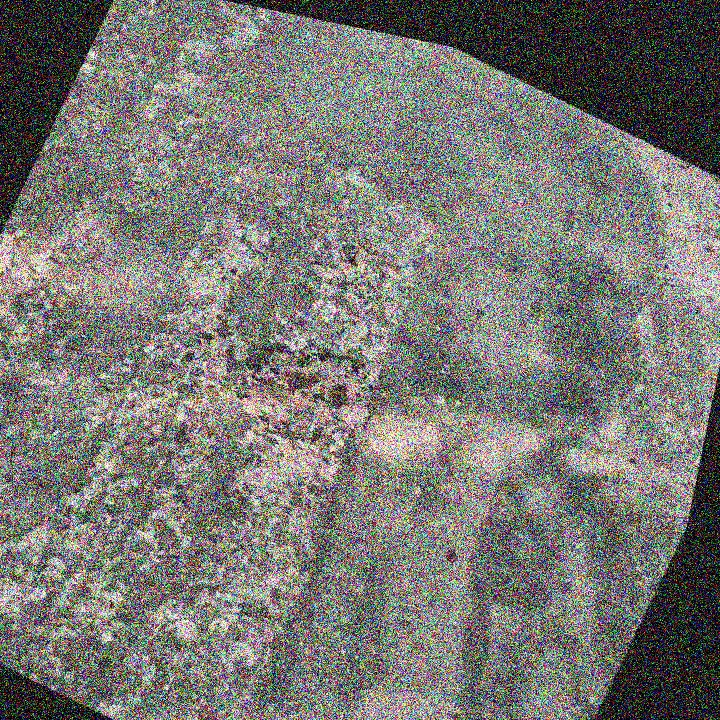pothole: (201, 294, 405, 483)
